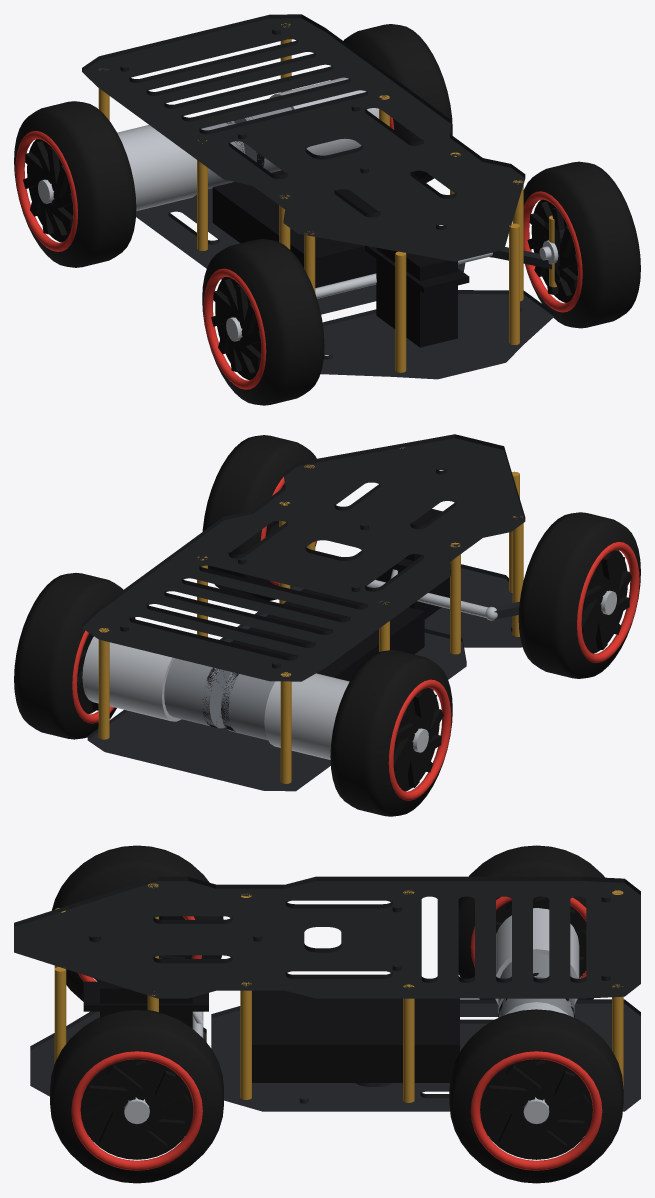
File: hiwonder_ackermann_chassis.glb
The picture shows the model from 3 angles, top to bottom: view 1: azimuth 30°, elevation 25°; view 2: azimuth 150°, elevation 25°; view 3: azimuth 270°, elevation 25°; orthographic projection. The views are drawn at different scales.
Parts seen in each view (by area): view 1: plate_top, wheel_FL, wheel_RL, wheel_FR, plate_front, battery, servo, standoffs, wheel_RR, motor_L, plate_base, motor_R (+2 smaller); view 2: plate_top, wheel_RL, wheel_FL, plate_base, wheel_RR, motor_R, motor_L, wheel_FR, standoffs, plate_front, battery, servo (+1 smaller); view 3: plate_top, wheel_RR, wheel_FR, battery, plate_base, wheel_RL, wheel_FL, standoffs, servo, motor_L, plate_front, motor_R.
Part boxes in pixels (x1,y1,x2,y2): plate_top: (82,14,525,261); wheel_FL: (202,239,324,405); wheel_RL: (14,101,136,267); wheel_FR: (523,161,640,328); plate_front: (320,290,554,379); battery: (212,170,378,287); servo: (365,245,469,347); standoffs: (98,23,523,372); wheel_RR: (330,24,452,182); motor_L: (117,121,245,210); plate_base: (136,188,465,314); motor_R: (234,77,378,172); plate_top: (82,434,525,681); wheel_RL: (330,650,452,816); wheel_FL: (518,512,640,678); plate_base: (87,611,466,791); wheel_RR: (14,573,135,739); motor_R: (82,636,231,728); motor_L: (221,672,349,759); wheel_FR: (202,435,316,600); standoffs: (98,447,523,783); plate_front: (290,564,522,647); battery: (230,589,424,681); servo: (376,509,449,619); plate_top: (14,876,640,998); wheel_RR: (449,1009,623,1183); wheel_FR: (50,1009,223,1183); battery: (252,990,459,1082); plate_base: (211,999,640,1111); wheel_RL: (458,845,604,999); wheel_FL: (52,845,223,1001); standoffs: (54,883,623,1102); servo: (83,980,208,1028); motor_L: (495,908,579,1013); plate_front: (30,1011,206,1096); motor_R: (498,998,574,1017).
Bounding box in the file's own units: 0.2 × 0.075 × 0.27.
